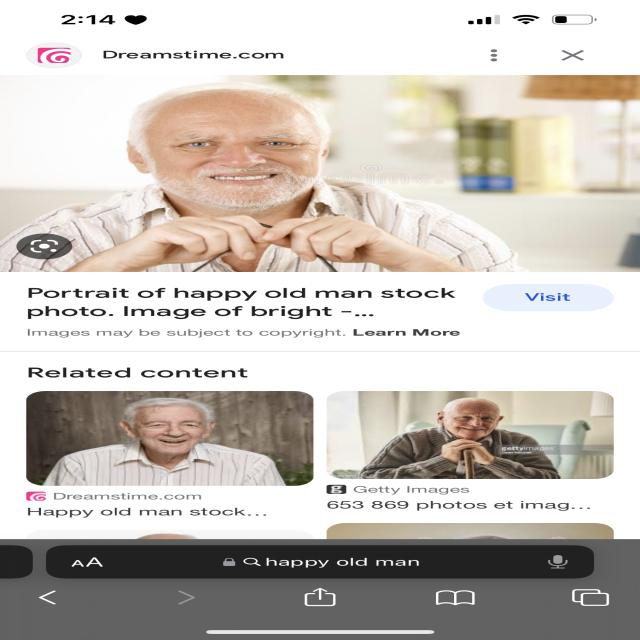happy: (145, 104, 325, 200)
